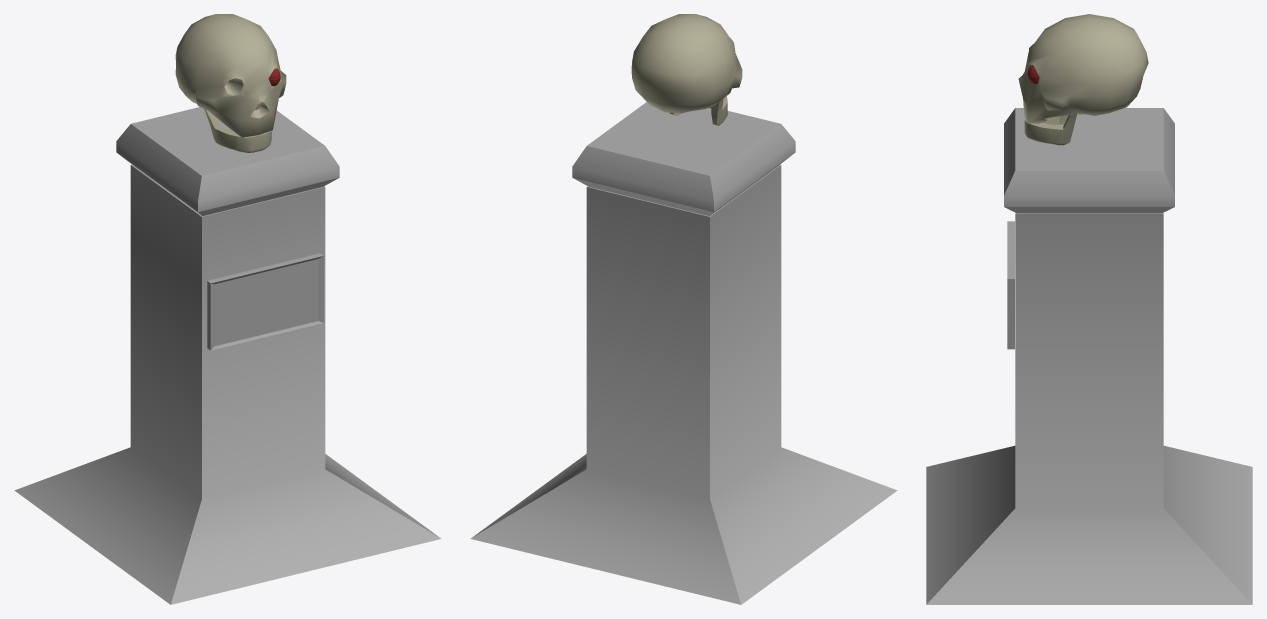
The model's file is Pedstal.fbx.
3 renders of one model, left to right at view 1: azimuth 30°, elevation 25°; view 2: azimuth 150°, elevation 25°; view 3: azimuth 270°, elevation 25°, orthographic. The views are drawn at different scales.
Visible parts, largest first — view 1: Eich_pedestal, Eich_Skull, Eich_Reading, Eich_Jaw; view 2: Eich_pedestal, Eich_Skull; view 3: Eich_pedestal, Eich_Skull, Eich_Jaw, Eich_Reading.
Boxes of the visible parts, x1=… form: Eich_pedestal: x1=14, y1=107, x2=441, y2=604; Eich_Skull: x1=175, y1=14, x2=286, y2=137; Eich_Reading: x1=207, y1=253, x2=323, y2=350; Eich_Jaw: x1=204, y1=109, x2=271, y2=152; Eich_pedestal: x1=470, y1=102, x2=897, y2=604; Eich_Skull: x1=631, y1=14, x2=742, y2=113; Eich_pedestal: x1=926, y1=108, x2=1252, y2=604; Eich_Skull: x1=1018, y1=14, x2=1148, y2=123; Eich_Jaw: x1=1024, y1=113, x2=1077, y2=145; Eich_Reading: x1=1007, y1=221, x2=1014, y2=349.
Size of the model in its own units: 2.2 by 3.83 by 2.2.
